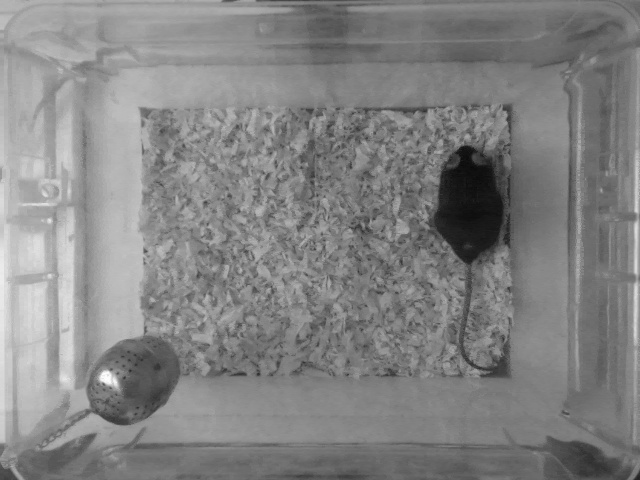mice: (427, 140, 507, 373)
